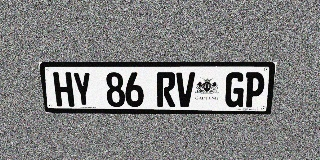6: (124, 72, 144, 107)
8: (105, 72, 125, 107)
G: (224, 72, 246, 107)
H: (53, 72, 74, 107)
P: (243, 72, 266, 107)
R: (157, 72, 176, 107)
V: (176, 72, 195, 107)
Y: (72, 72, 93, 107)
